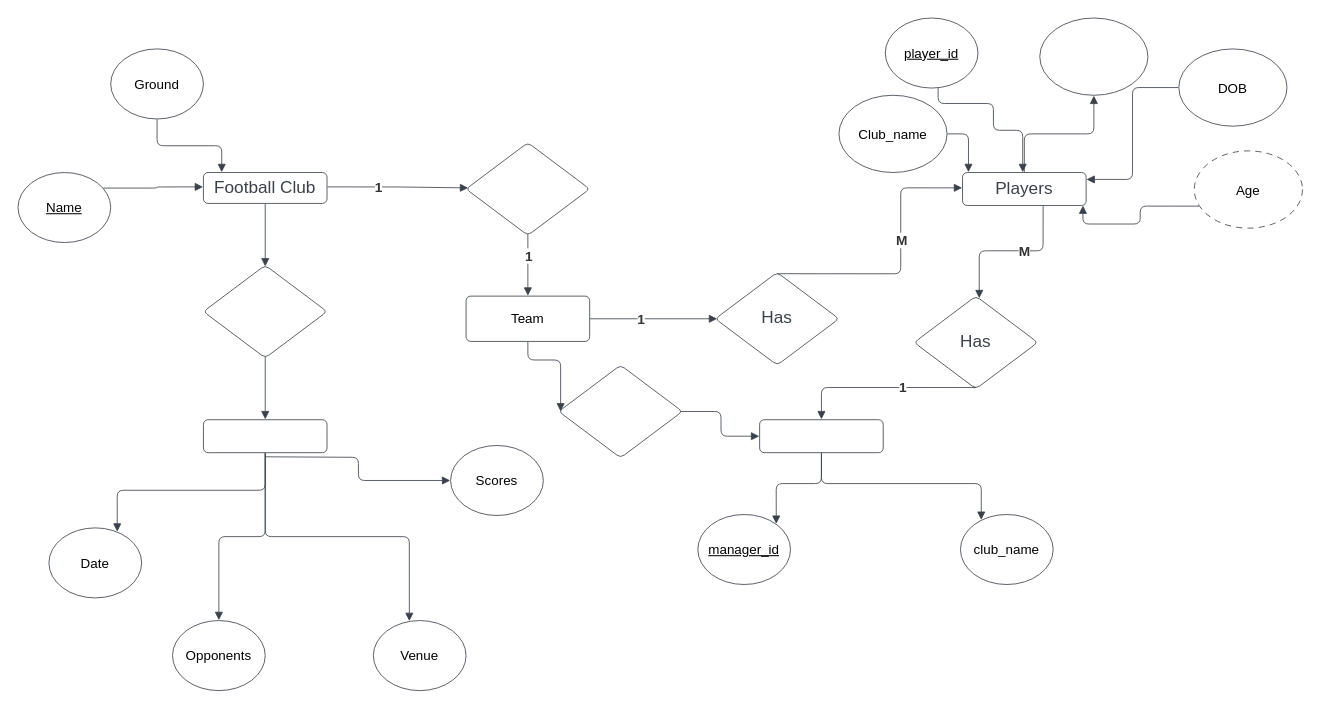
Image size: 1320x709. Some labels were removed from this diagram. Each missing label, with the centre of its shape:
"Managers" belongs at pixel 821 436.
"Manages" belongs at pixel 620 411.
"Matches" belongs at pixel 264 436.
"Owns" belongs at pixel 527 188.
"player_name" belongs at pixel 1093 56.
"Plays" belongs at pixel 264 311.
